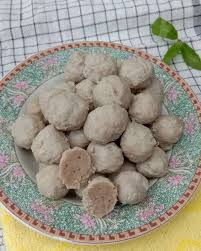bakso: (8, 47, 196, 225)
